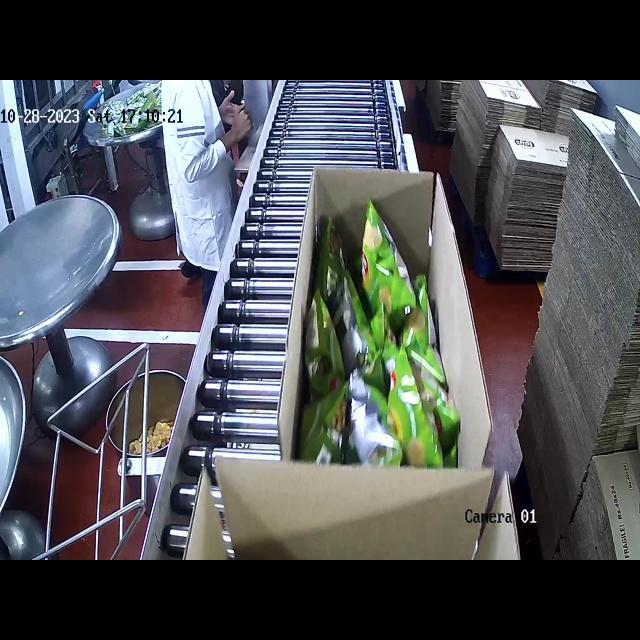yogurt: (296, 197, 461, 469)
